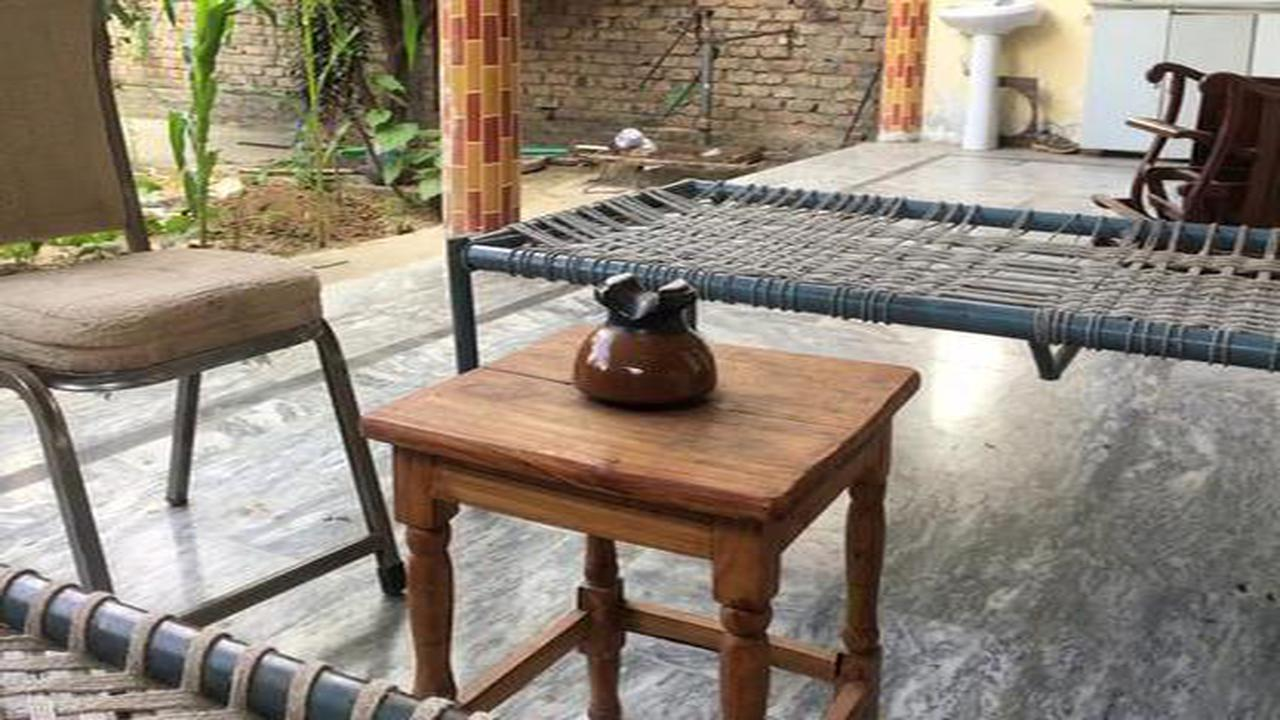insulator_pin: (557, 260, 742, 419)
